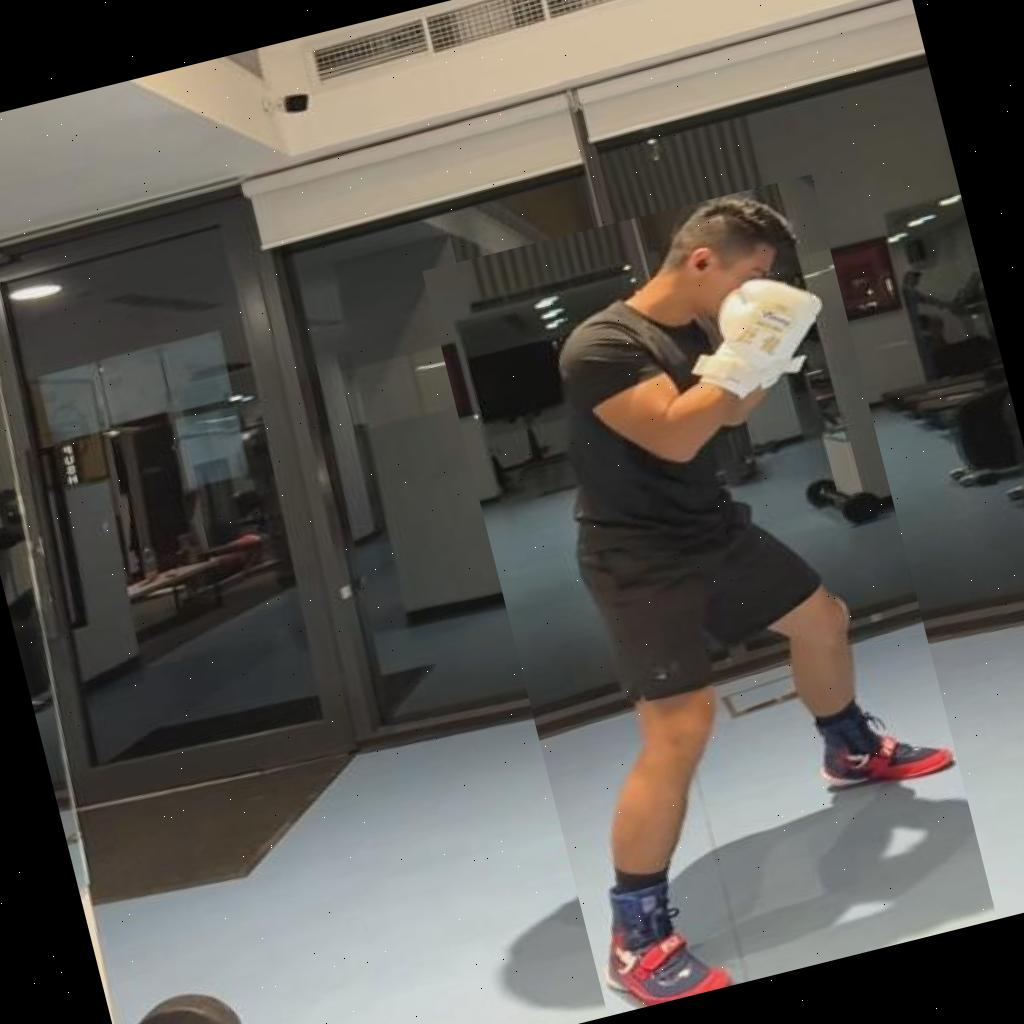no punch: (422, 174, 997, 1016)
